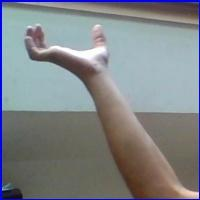space: (20, 18, 117, 80)
